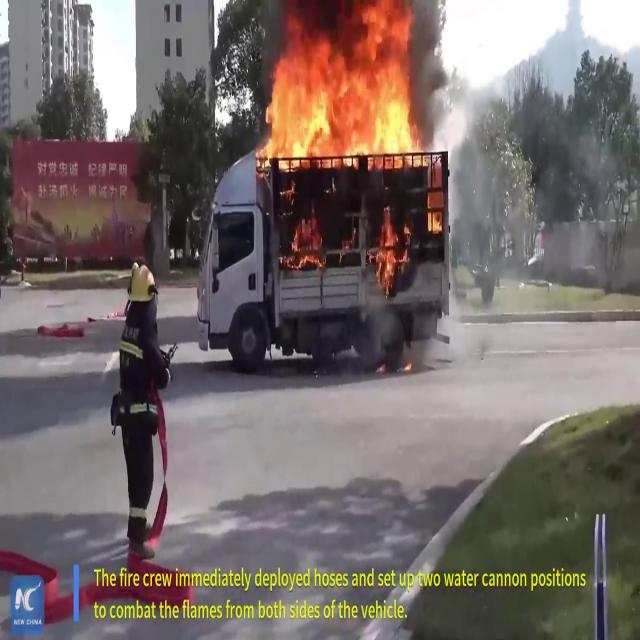Fire: (254, 3, 431, 172), (286, 210, 324, 274)
